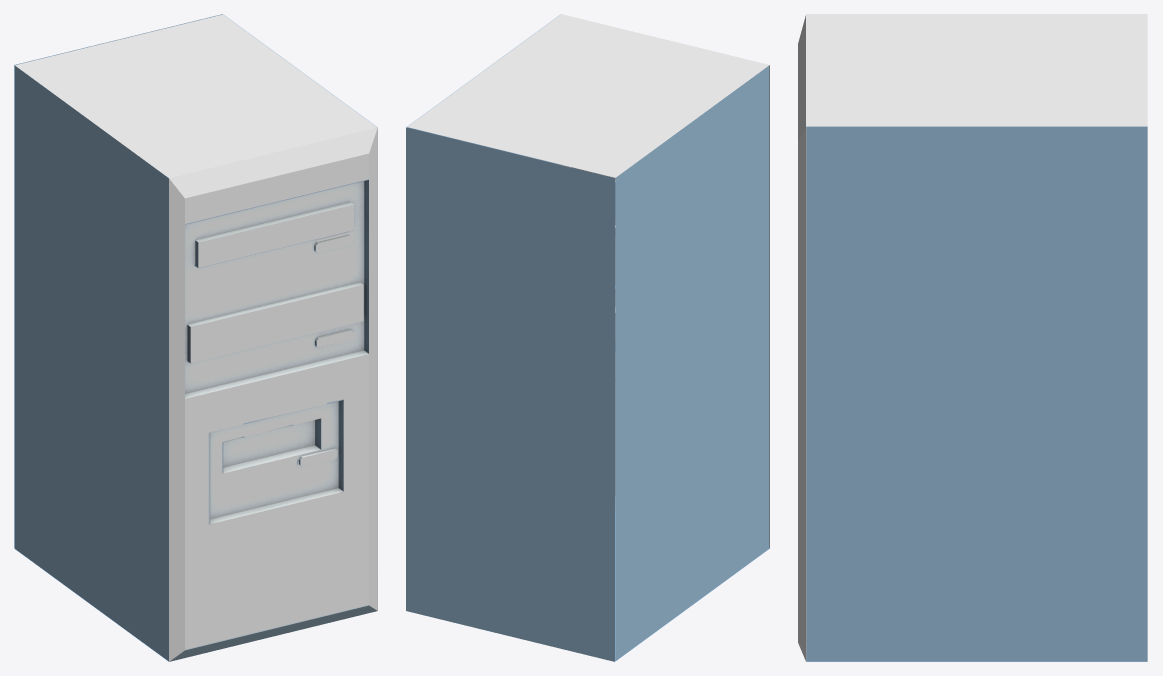
The model's file is norma_desktop_color.fbx.
3 views of the same model, side by side, from view 1: azimuth 30°, elevation 25°; view 2: azimuth 150°, elevation 25°; view 3: azimuth 270°, elevation 25° (orthographic). The views are drawn at different scales.
Visible parts, largest first — view 1: polySurface11, polySurface16, polySurface17; view 2: polySurface17, polySurface16, polySurface11; view 3: polySurface18, polySurface11.
Part boxes in pixels (box(x1,y1,x2,y2)): polySurface11: box(15, 14, 377, 661); polySurface16: box(15, 66, 168, 661); polySurface17: box(14, 14, 222, 548); polySurface17: box(406, 127, 614, 661); polySurface16: box(615, 65, 769, 660); polySurface11: box(407, 14, 769, 661); polySurface18: box(806, 126, 1147, 661); polySurface11: box(798, 14, 1147, 661).
Bounding box in the file's own units: 0.2092 × 0.463 × 0.2749.
